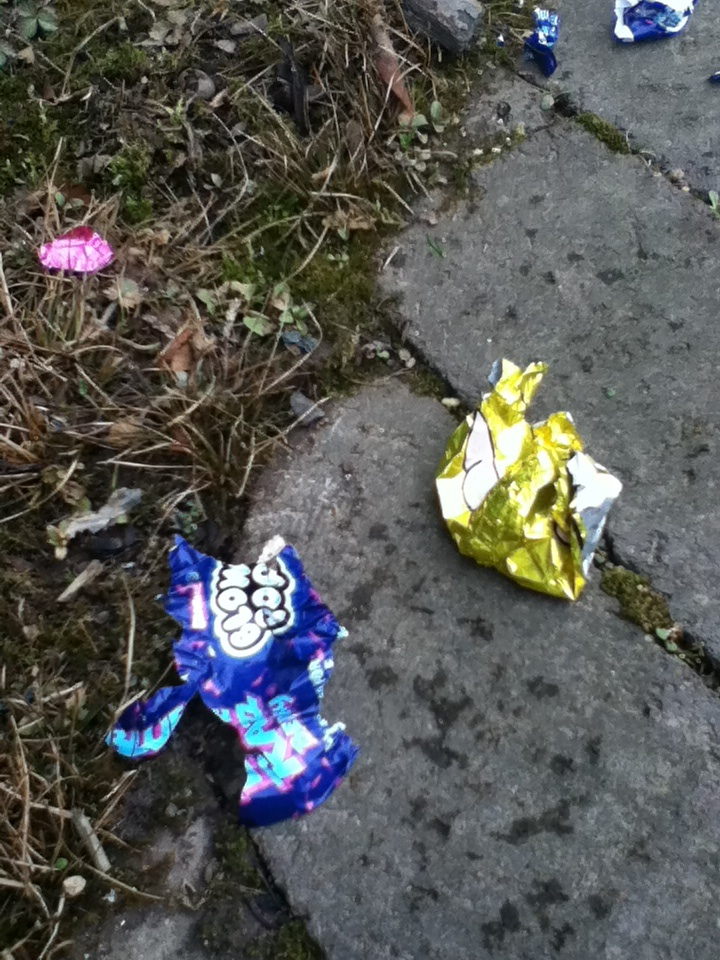plastic: (92, 524, 374, 822), (418, 358, 645, 577), (601, 1, 698, 61), (43, 212, 120, 283), (517, 2, 566, 73)
wrapper: (110, 538, 368, 806), (437, 357, 629, 611), (611, 1, 697, 51)
